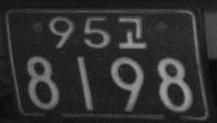1: (71, 56, 101, 111)
5: (84, 16, 110, 49)
8: (155, 56, 193, 113), (25, 55, 59, 109)
9: (109, 55, 144, 113), (48, 15, 74, 49)
고: (118, 15, 146, 49)
